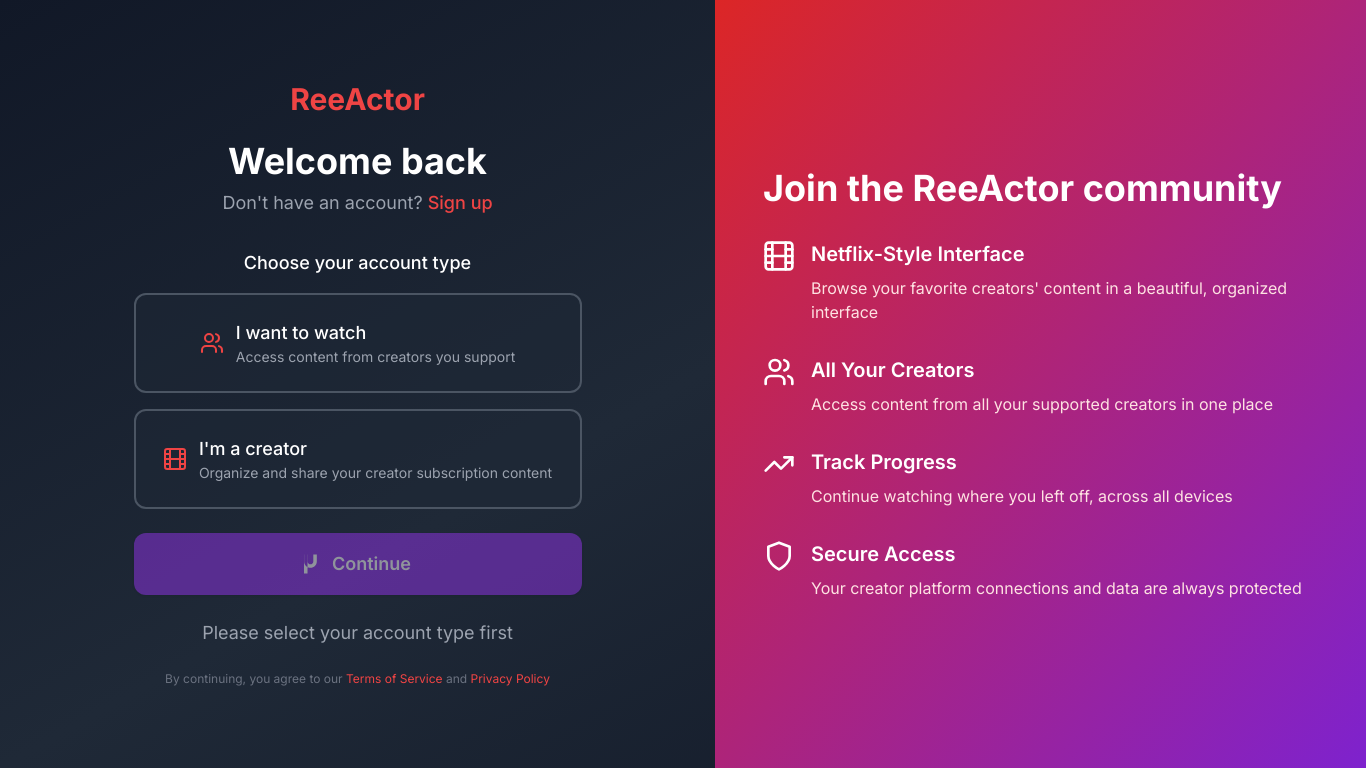
Creator Platform OAuth Login › should show loading state during OAuth redirect
// Select patron type
Click the heading "I want to watch" at x=301, y=332, box [236, 322, 366, 343]
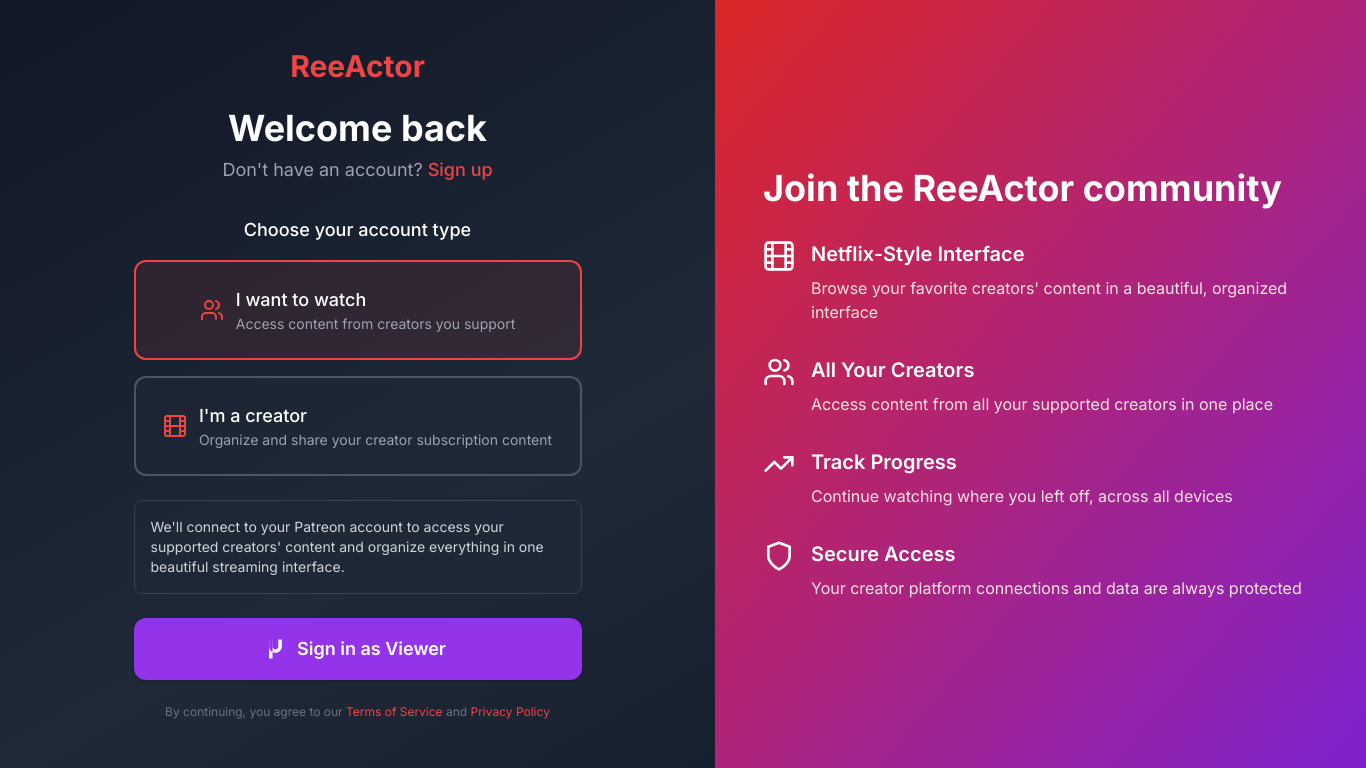
// Click login button
Click the button "Sign in as Viewer" at x=358, y=649, box [134, 618, 582, 680]
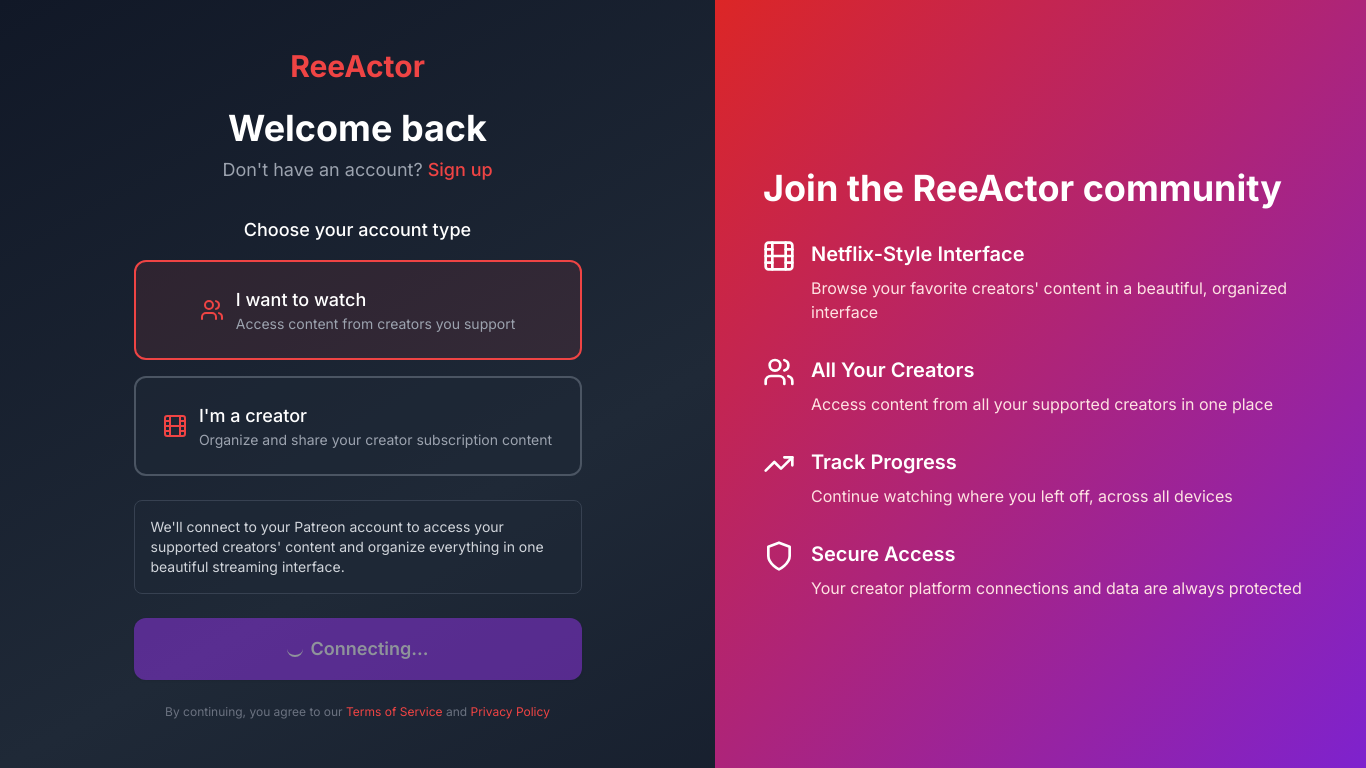
Now the text "Connecting..." is shown, box [310, 635, 428, 663]
